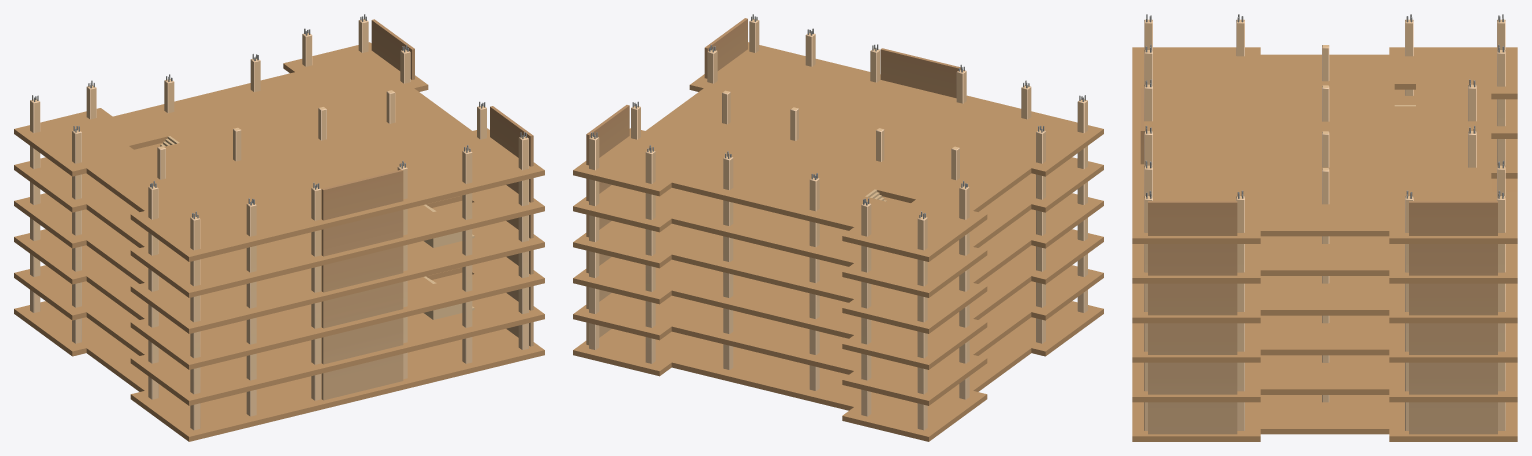
The model's file is cBuilding_1_3.fbx.
The picture shows the model from 3 angles, left to right: view 1: azimuth 30°, elevation 25°; view 2: azimuth 150°, elevation 25°; view 3: azimuth 270°, elevation 25°; orthographic projection. The views are drawn at different scales.
Parts seen in each view (by area): view 1: cBuilding_1_3; view 2: cBuilding_1_3; view 3: cBuilding_1_3.
Part boxes in pixels (box(x1,y1,x2,y2)): cBuilding_1_3: box(14, 14, 544, 441); cBuilding_1_3: box(573, 14, 1103, 441); cBuilding_1_3: box(1132, 14, 1517, 441).
Size of the model in its own units: 2925 by 1733 by 2492.
